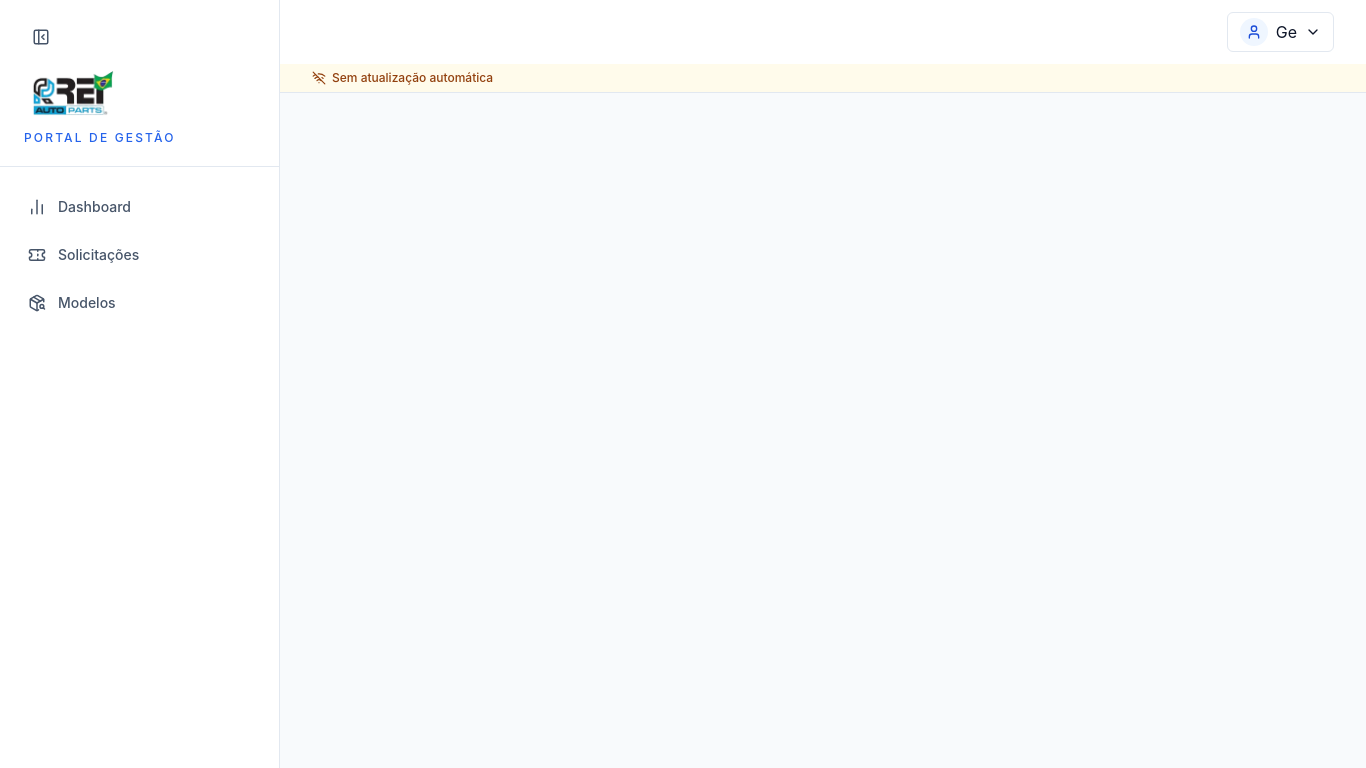
Test: AppLayout › deve mostrar Sair só dentro do menu do usuário quando ele é aberto
The width and height of the screenshot is (1366, 768).
Click the button with aria-label "Menu do usuário: Ge" at (1280, 32), box [1227,12,1334,52]
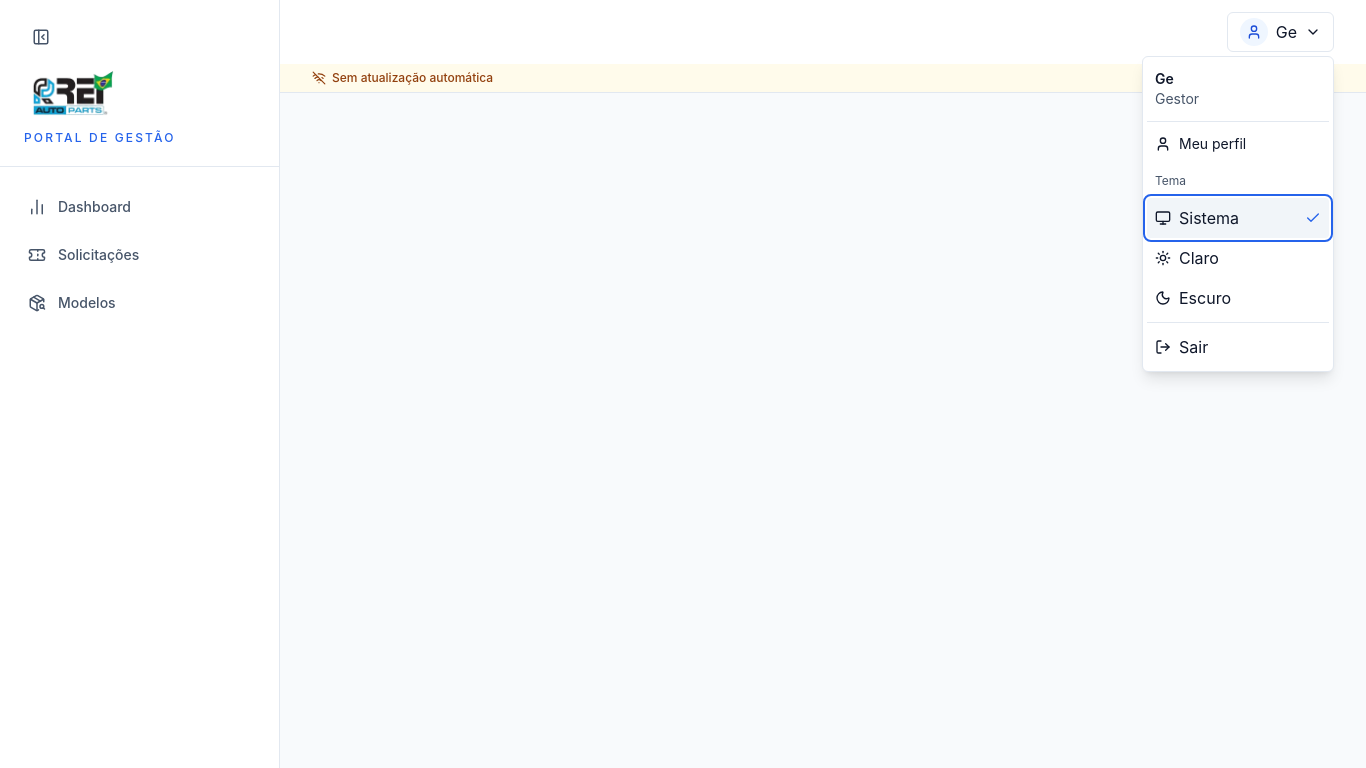
Check: the number of menu items "Sair" is 1, box [1147,327,1329,367]
